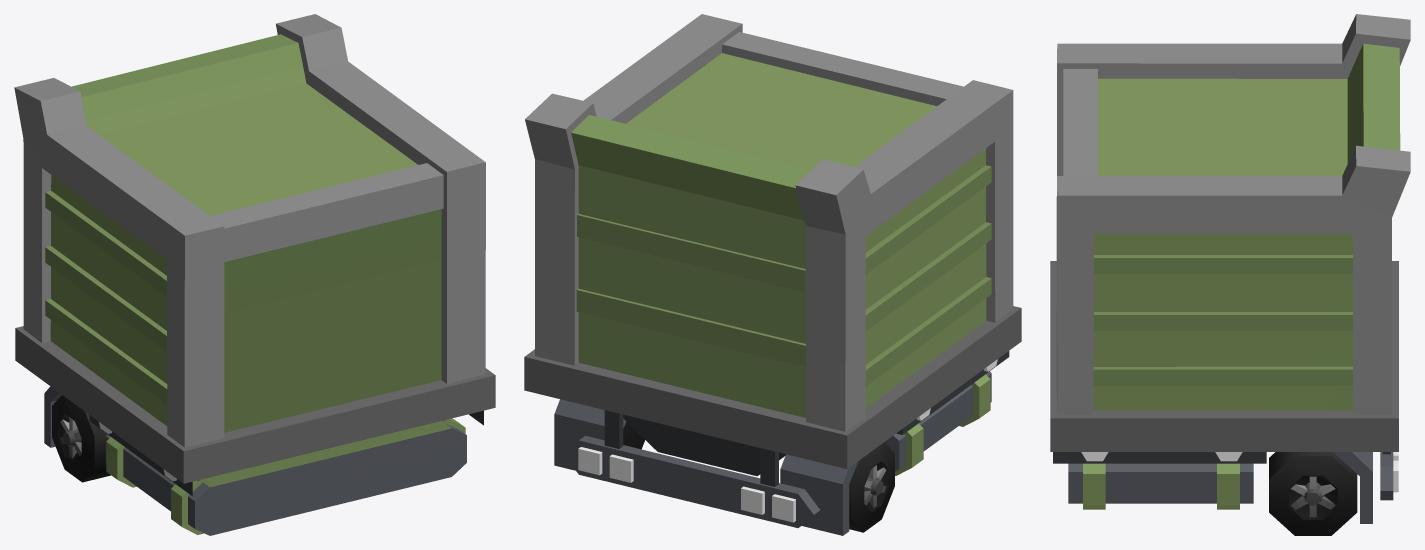
Rendered from cargo_01_C_1.fbx.
3 views of the same model, side by side, from view 1: azimuth 30°, elevation 25°; view 2: azimuth 150°, elevation 25°; view 3: azimuth 270°, elevation 25° (orthographic). The views are drawn at different scales.
Parts seen in each view (by area): view 1: cargo_01_C_1; view 2: cargo_01_C_1; view 3: cargo_01_C_1.
Part boxes in pixels (bbox=[...]): cargo_01_C_1: bbox=[14, 14, 495, 535]; cargo_01_C_1: bbox=[524, 14, 1021, 535]; cargo_01_C_1: bbox=[1050, 14, 1410, 535].
Bounding box in the file's own units: 14.03 × 15.6 × 13.57.
